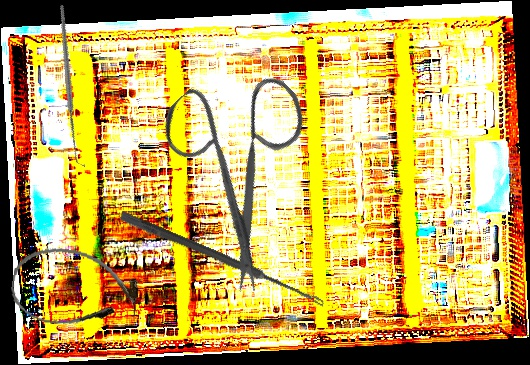Cannula: (6, 241, 144, 337)
Hook Surgical: (2, 4, 143, 167)
Iris Scissors: (115, 38, 375, 299)
Surgical Spoon: (118, 211, 328, 308)
